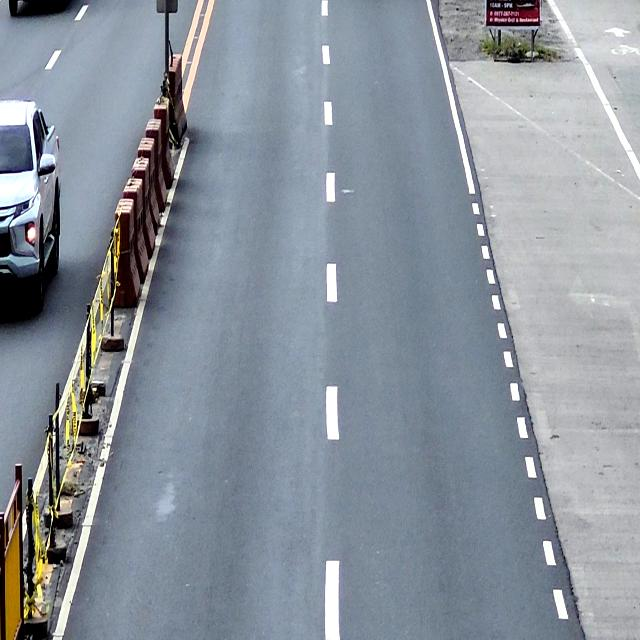Car: (0, 98, 62, 309)
